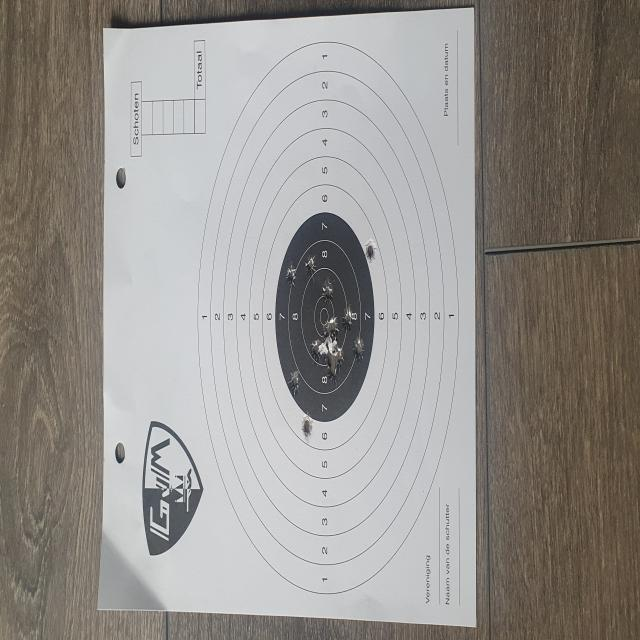10: (344, 306, 354, 334), (311, 339, 322, 364), (324, 344, 334, 364), (336, 346, 344, 366)
2: (322, 278, 334, 304), (328, 316, 338, 334), (323, 326, 331, 342)
7: (300, 410, 314, 444), (363, 236, 378, 267)
8: (289, 369, 301, 397)
9: (352, 338, 366, 366), (286, 258, 296, 288), (304, 253, 316, 277), (327, 365, 339, 383)
Black Contour: (275, 214, 375, 426)
Target: (202, 50, 464, 606)
